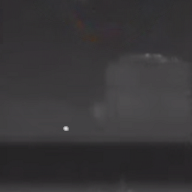Target: (63, 125, 70, 132)
